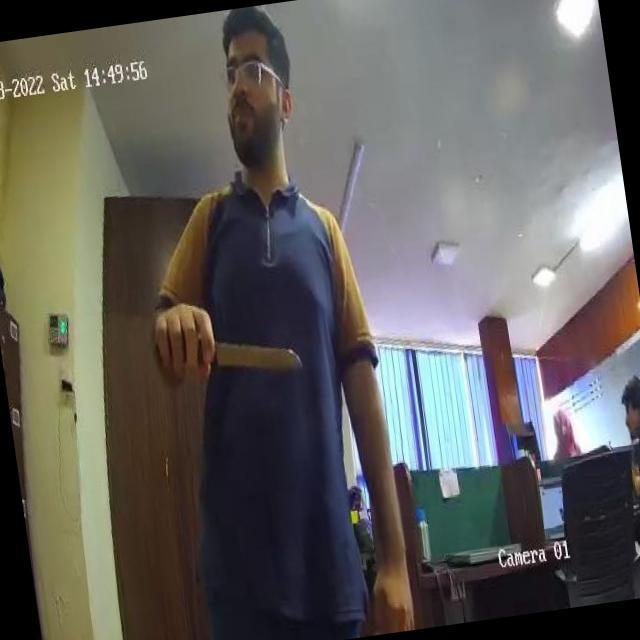Knife: (158, 311, 305, 398)
